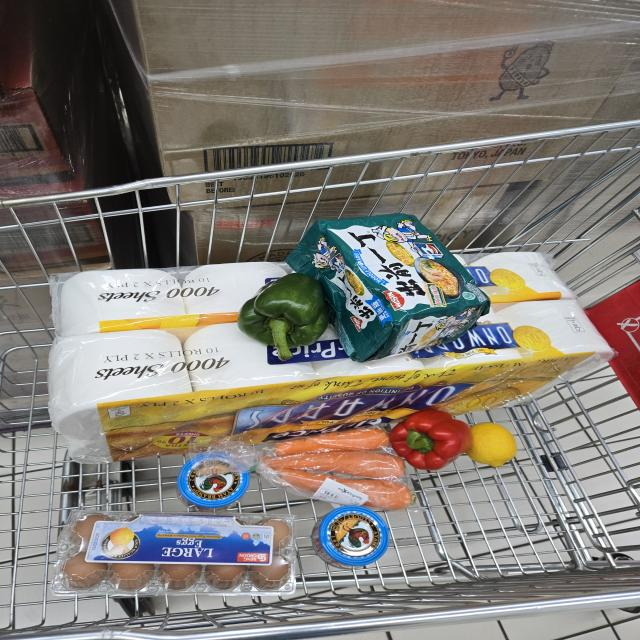bell-pepper: (239, 271, 330, 349), (390, 406, 465, 471)
carrot: (264, 464, 422, 511), (270, 446, 415, 476), (274, 427, 391, 453)
eggs: (51, 504, 304, 602)
instant-noodle: (295, 210, 496, 353)
lemon: (467, 422, 520, 468)
toilet-paper: (35, 298, 628, 454), (47, 249, 586, 340)
tuna-can: (314, 507, 392, 565), (176, 451, 253, 509)
